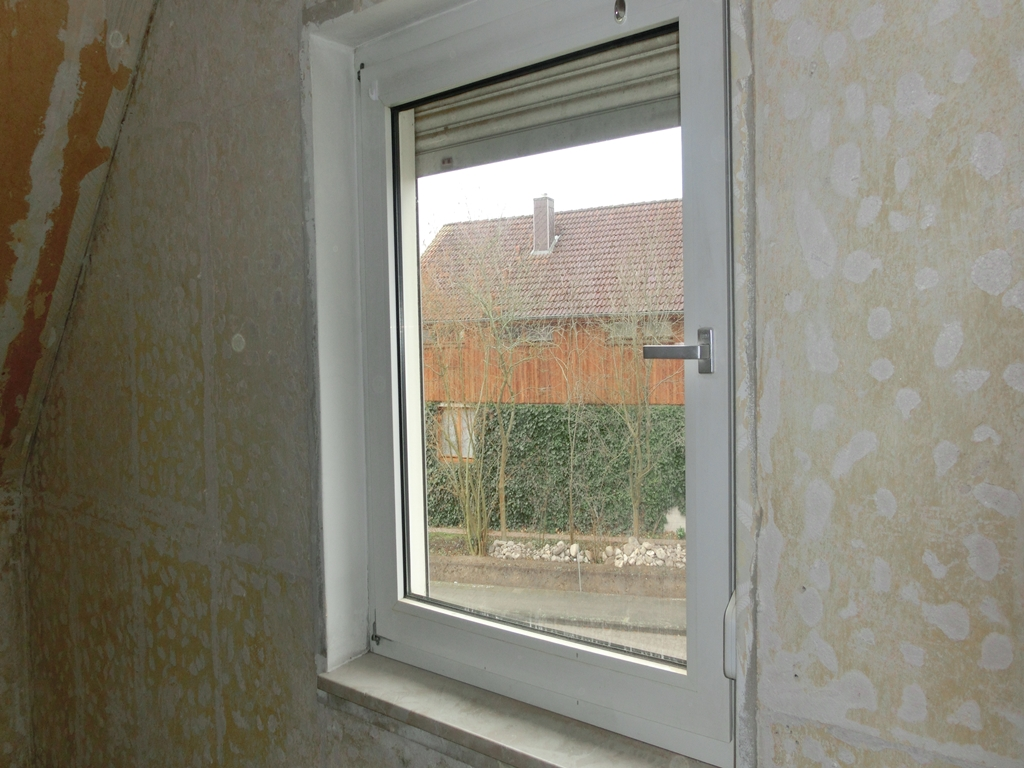windows: (343, 38, 737, 767)
